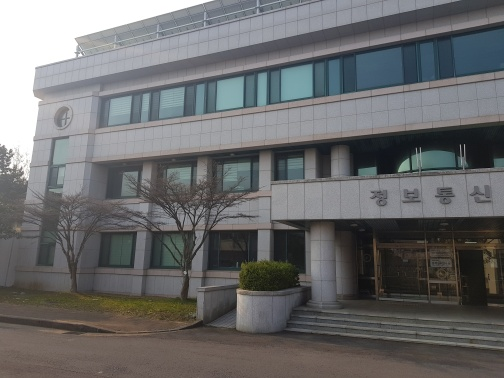Information Telecommunication Center: (29, 16, 500, 307), (351, 226, 496, 310), (362, 176, 498, 217)
